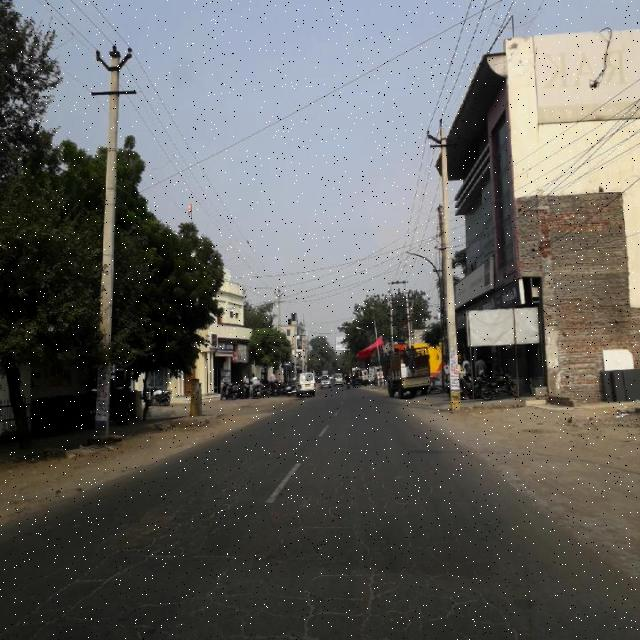D20: (31, 462, 517, 636)
